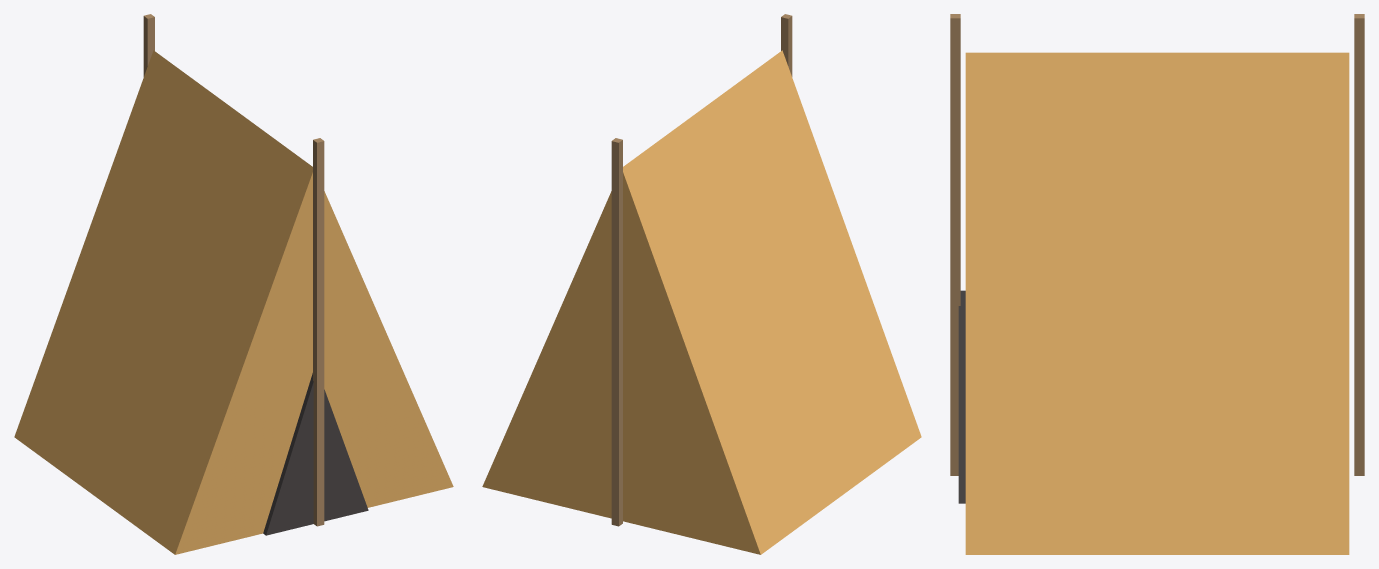
Rendered from IZ_Tienda.fbx.
3 views of the same model, side by side, from view 1: azimuth 30°, elevation 25°; view 2: azimuth 150°, elevation 25°; view 3: azimuth 270°, elevation 25° (orthographic). The views are drawn at different scales.
Parts seen in each view (by area): view 1: IZ_Tienda; view 2: IZ_Tienda; view 3: IZ_Tienda.
Boxes of the visible parts, x1=… form: IZ_Tienda: x1=14, y1=14, x2=453, y2=554; IZ_Tienda: x1=482, y1=14, x2=921, y2=554; IZ_Tienda: x1=950, y1=14, x2=1364, y2=554.
Bounding box in the file's own units: 1.9 × 2.5 × 2.05.
